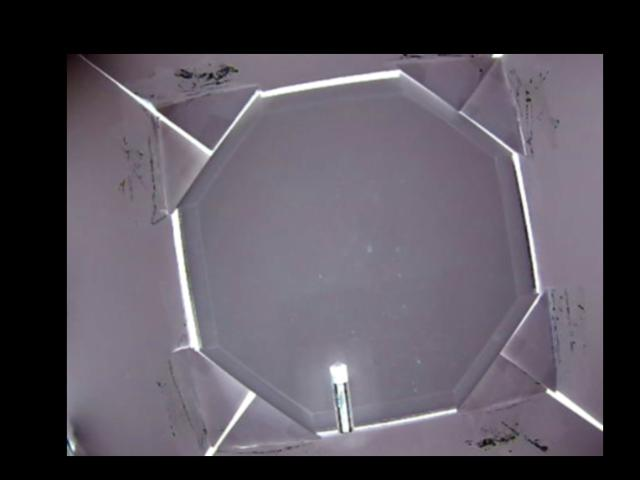Battery: (328, 363, 357, 435)
